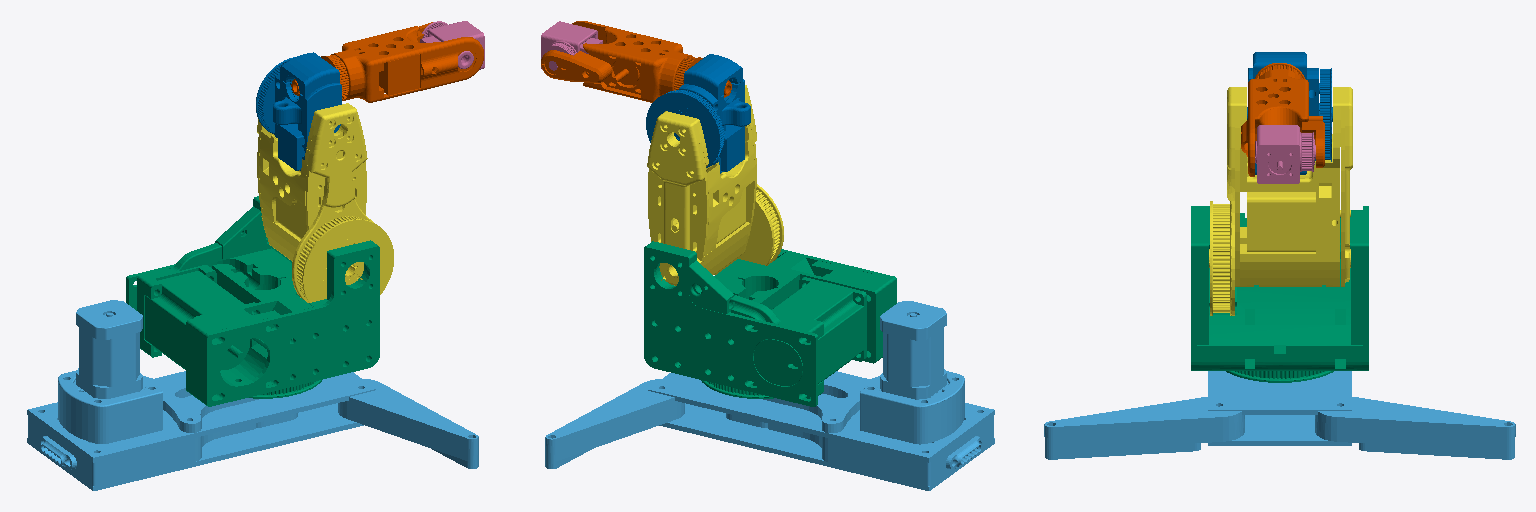
URDF robot description (robot):
<?xml version="1.0" encoding="utf-8"?>
<!--
  Custom 6-DOF arm, converted for the "pilot" web commander (urdf-loader).

  Changes from robot_arm_urdf.xacro (kinematics are unchanged):
    - Plain URDF: xacro namespace/include removed, ${...} math evaluated to numbers
    - Removed leading whitespace before the XML declaration
    - Joints and links renamed to L1..L6 (the app hard-codes these names)
    - Mesh paths changed from package://my_package/meshes/... to ./meshes/...
      (relative to /urdf/, same as the original PAROL6.urdf). Filenames are kept
      exactly as in your xacro (base.stl, j1.stl ... j5.stl), lowercase.
    - base_joint origin changed from "1 1 0" to "0 0 0": the app reports TCP
      positions from the world frame, so the base must sit at the origin.
    - Mesh scale="0.01 0.01 0.01" kept (urdf-loader supports it).

  Place at: frontend/public/urdf/PAROL6.urdf
  Meshes:   frontend/public/urdf/meshes/
-->
<robot name="robot">

  <link name="world"/>

  <!-- Base -->
  <joint name="base_joint" type="fixed">
    <parent link="world"/>
    <child link="base_link"/>
    <origin xyz="0 0 0" rpy="0 0 0"/>
  </joint>

  <link name="base_link">
    <visual>
      <origin xyz="0 0 0.05" rpy="0 0 0"/>
      <geometry>
        <mesh filename="./meshes/base.stl" scale="0.01 0.01 0.01"/>
      </geometry>
    </visual>
  </link>

  <!-- Joint 1 (was joint_1) -->
  <joint name="L1" type="revolute">
    <parent link="base_link"/>
    <child link="L1"/>
    <origin xyz="0 0 0.05" rpy="0 0 0"/>
    <axis xyz="0 0 1"/>
    <limit effort="100" velocity="1.5" lower="-1.0471975512" upper="1.0471975512"/>
  </joint>

  <link name="L1">
    <visual>
      <origin xyz="0 0 0" rpy="0 0 0"/>
      <geometry>
        <mesh filename="./meshes/j1.stl" scale="0.01 0.01 0.01"/>
      </geometry>
    </visual>
  </link>

  <!-- Joint 2 (was joint_2) -->
  <joint name="L2" type="revolute">
    <parent link="L1"/>
    <child link="L2"/>
    <origin xyz="0.047 0 0.135" rpy="0 0 0"/>
    <axis xyz="0 1 0"/>
    <limit effort="100" velocity="1.5" lower="-1.3194689145" upper="1.5707963268"/>
  </joint>

  <link name="L2">
    <visual>
      <origin xyz="-0.047 0 -0.135" rpy="0 0 0"/>
      <geometry>
        <mesh filename="./meshes/j2.stl" scale="0.01 0.01 0.01"/>
      </geometry>
    </visual>
  </link>

  <!-- Joint 3 (was joint_3) -->
  <joint name="L3" type="revolute">
    <parent link="L2"/>
    <child link="L3"/>
    <origin xyz="0 0 0.110" rpy="0 0 0"/>
    <axis xyz="0 1 0"/>
    <limit effort="100" velocity="1.5" lower="-1.5707963268" upper="1.2566370614"/>
  </joint>

  <link name="L3">
    <visual>
      <origin xyz="-0.047 0 -0.245" rpy="0 0 0"/>
      <geometry>
        <mesh filename="./meshes/j3.stl" scale="0.01 0.01 0.01"/>
      </geometry>
    </visual>
  </link>

  <!-- Joint 4 (was joint_4) -->
  <joint name="L4" type="revolute">
    <parent link="L3"/>
    <child link="L4"/>
    <origin xyz="0 0 0.026" rpy="0 0 0"/>
    <axis xyz="1 0 0"/>
    <limit effort="100" velocity="1.5" lower="-4.7123889804" upper="4.7123889804"/>
  </joint>

  <link name="L4">
    <visual>
      <origin xyz="-0.047 0 -0.271" rpy="0 0 0"/>
      <geometry>
        <mesh filename="./meshes/j4.stl" scale="0.01 0.01 0.01"/>
      </geometry>
    </visual>
  </link>

  <!-- Joint 5 (was joint_5) -->
  <joint name="L5" type="revolute">
    <parent link="L4"/>
    <child link="L5"/>
    <origin xyz="0.1175 0 0" rpy="0 0 0"/>
    <axis xyz="0 -1 0"/>
    <limit effort="100" velocity="1.5" lower="-1.8849555922" upper="1.8849555922"/>
  </joint>

  <link name="L5">
    <visual>
      <origin xyz="-0.1645 0 -0.271" rpy="0 0 0"/>
      <geometry>
        <mesh filename="./meshes/j5.stl" scale="0.01 0.01 0.01"/>
      </geometry>
    </visual>
  </link>

  <!-- Joint 6 (was joint_6). Link L6 has no mesh (the app strips the L6 mesh anyway);
       the app reads the TCP pose from this link's frame. -->
  <joint name="L6" type="continuous">
    <parent link="L5"/>
    <child link="L6"/>
    <origin xyz="0.0268 0 0" rpy="0 0 0"/>
    <axis xyz="1 0 0"/>
  </joint>

  <link name="L6"/>

</robot>

--- What the picture shows (computed from the rendered views, not written in the file) ---
The picture shows the robot from 3 angles, left to right: view 1: azimuth 30°, elevation 25°; view 2: azimuth 150°, elevation 25°; view 3: azimuth 270°, elevation 25°; orthographic projection.
Model robot with 8 links and 7 joints (5 revolute, 1 continuous, 1 fixed), rooted at world, posed every joint at zero.
Links seen in each view (by area): view 1: base_link, L1, L2, L4, L3, L5; view 2: base_link, L1, L2, L4, L3, L5; view 3: base_link, L2, L1, L4, L5, L3.
Boxes of the visible links, box(x1,y1,x2,y2) form: base_link: box(27, 300, 478, 490); L1: box(126, 196, 379, 406); L2: box(257, 103, 393, 302); L4: box(291, 22, 483, 102); L3: box(256, 52, 341, 170); L5: box(420, 21, 484, 69); base_link: box(545, 301, 994, 490); L1: box(644, 241, 896, 406); L2: box(647, 85, 783, 285); L4: box(541, 21, 731, 102); L3: box(646, 54, 750, 173); L5: box(541, 21, 602, 70); base_link: box(1044, 371, 1515, 459); L2: box(1209, 87, 1352, 315); L1: box(1191, 206, 1368, 382); L4: box(1241, 63, 1324, 176); L5: box(1255, 125, 1315, 183); L3: box(1247, 52, 1332, 174).
Size in the robot's own frame: 0.3765 by 0.3265 by 0.2896 metres.
6 mesh visuals loaded from 6 distinct referenced files (6 binary STL).
